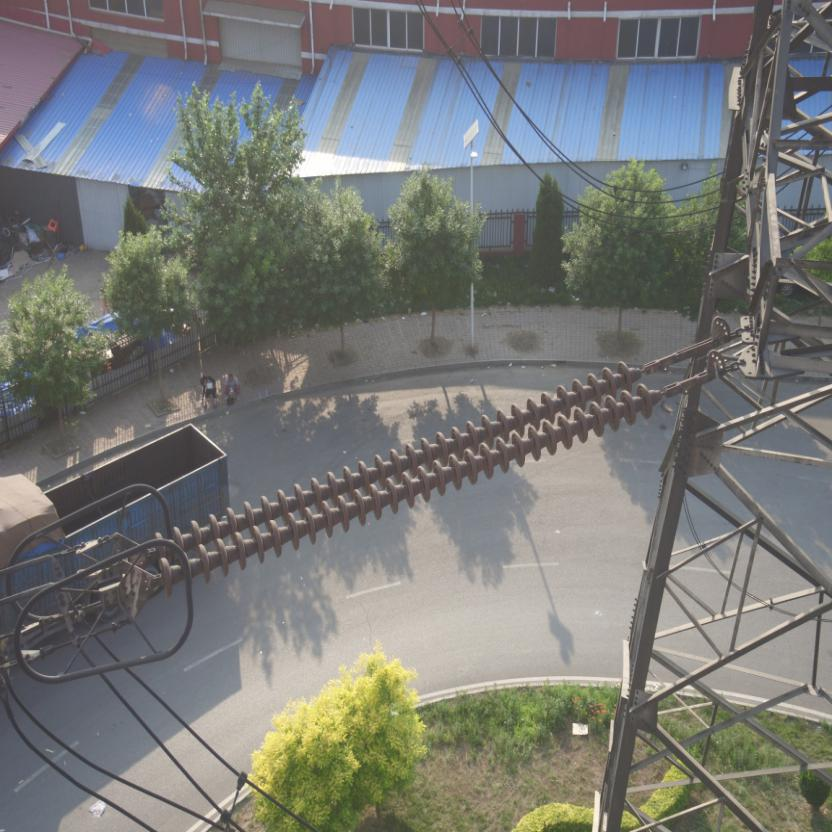insulator: (146, 353, 687, 595)
